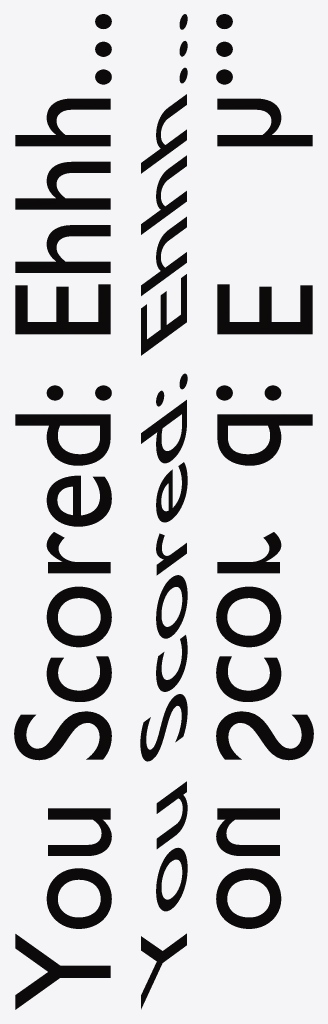
The model's file is point1.dae.
The picture shows the model from 3 angles, left to right: view 1: azimuth 90°, elevation 25°; view 2: azimuth 150°, elevation 25°; view 3: azimuth 270°, elevation 25°; orthographic projection. The views are drawn at different scales.
Visible parts, largest first — view 1: Text; view 2: Text; view 3: Text.
Boxes of the visible parts, x1,y1,x2,y2 form: Text: (14,14,111,1009); Text: (140,14,187,1009); Text: (216,14,313,928).
Size of the model in its own units: 3.44e-07 by 0.7 by 7.87.
1 material, 1 textured.
